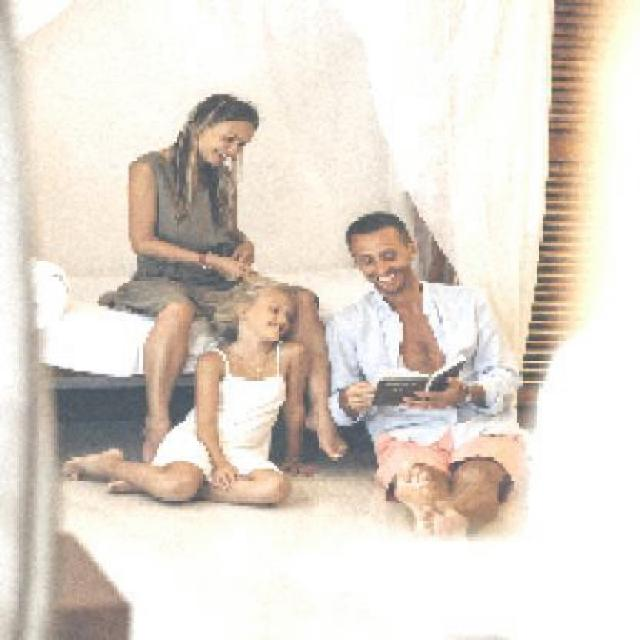child: (62, 274, 318, 503)
